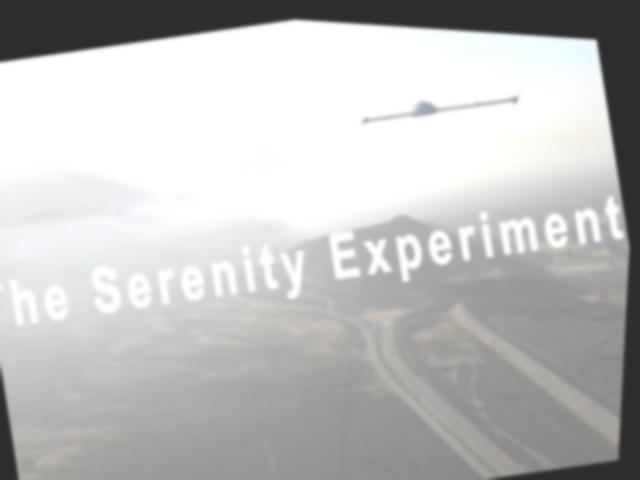iha: (352, 61, 531, 134)
